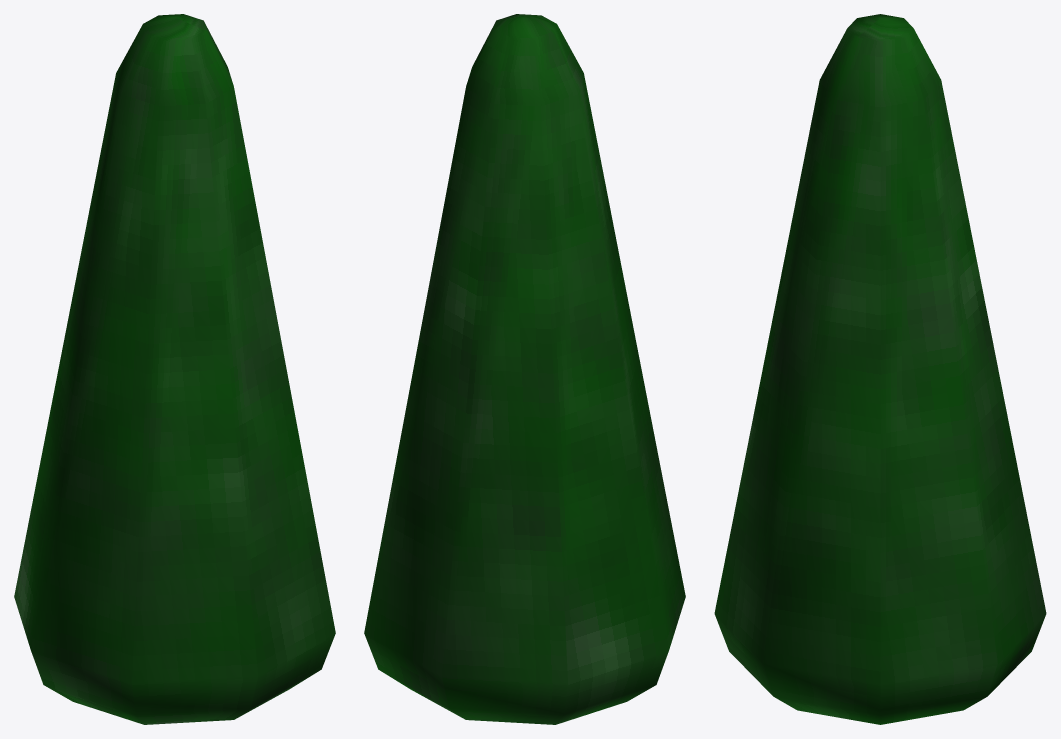
Rendered from treeC.obj.
3 views of the same model, side by side, from view 1: azimuth 30°, elevation 25°; view 2: azimuth 150°, elevation 25°; view 3: azimuth 270°, elevation 25° (orthographic).
Parts seen in each view (by area): view 1: Tree_C_TreeC; view 2: Tree_C_TreeC; view 3: Tree_C_TreeC.
Boxes of the visible parts, bbox=[...] form: Tree_C_TreeC: bbox=[14, 14, 335, 724]; Tree_C_TreeC: bbox=[364, 14, 685, 724]; Tree_C_TreeC: bbox=[714, 14, 1046, 724].
Size of the model in its own units: 0.686 by 1.5 by 0.686.
1 material, 1 textured.
